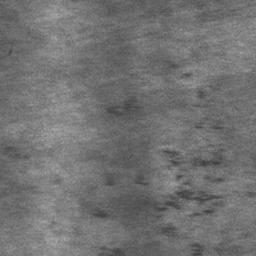Rolled in scale: (155, 150, 223, 218), (194, 157, 222, 167), (108, 106, 123, 117), (93, 209, 109, 218), (191, 243, 202, 256), (205, 176, 225, 183), (98, 246, 107, 256), (164, 227, 176, 233), (245, 191, 254, 198), (212, 125, 223, 130)
